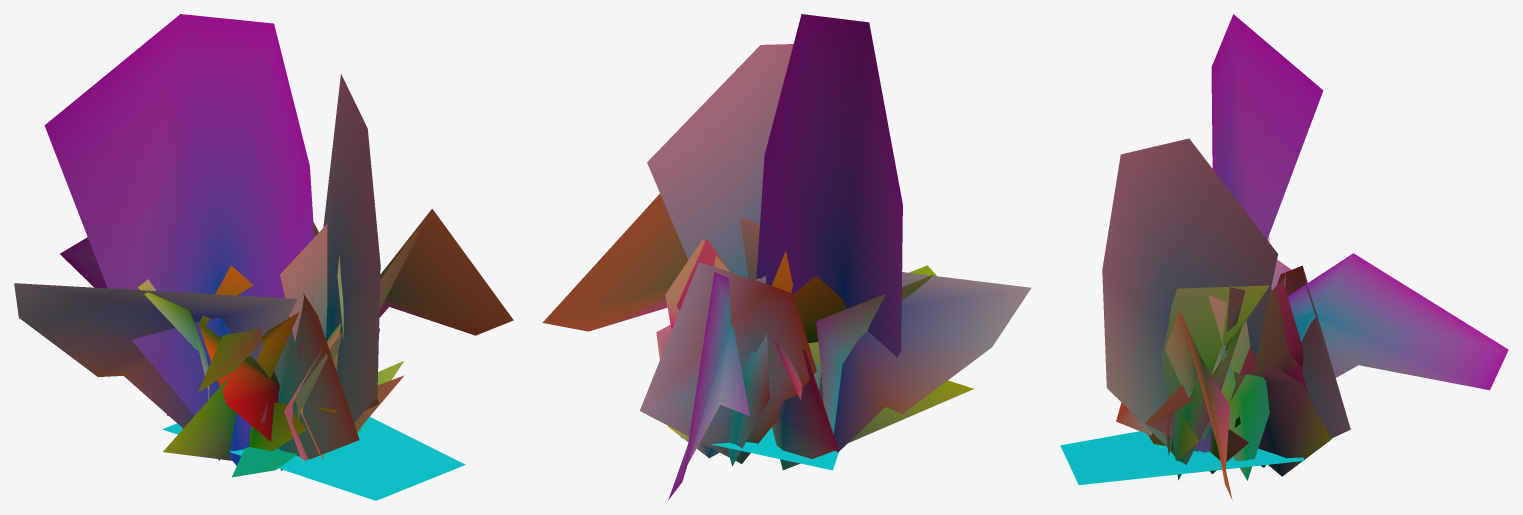
The model's file is Kikuyu_Grass_wiljearqx_High_wiljearqx_VarB_LOD2.fbx.
The picture shows the model from 3 angles, left to right: view 1: azimuth 30°, elevation 25°; view 2: azimuth 150°, elevation 25°; view 3: azimuth 270°, elevation 25°; orthographic projection. The views are drawn at different scales.
Parts seen in each view (by area): view 1: _04z1_VarB_LOD5; view 2: _04z1_VarB_LOD5; view 3: _04z1_VarB_LOD5.
Part boxes in pixels (bbox=[...]): _04z1_VarB_LOD5: bbox=[14, 14, 513, 500]; _04z1_VarB_LOD5: bbox=[542, 14, 1031, 500]; _04z1_VarB_LOD5: bbox=[1060, 14, 1508, 499].
Bounding box in the file's own units: 55.25 × 48.71 × 48.59.
